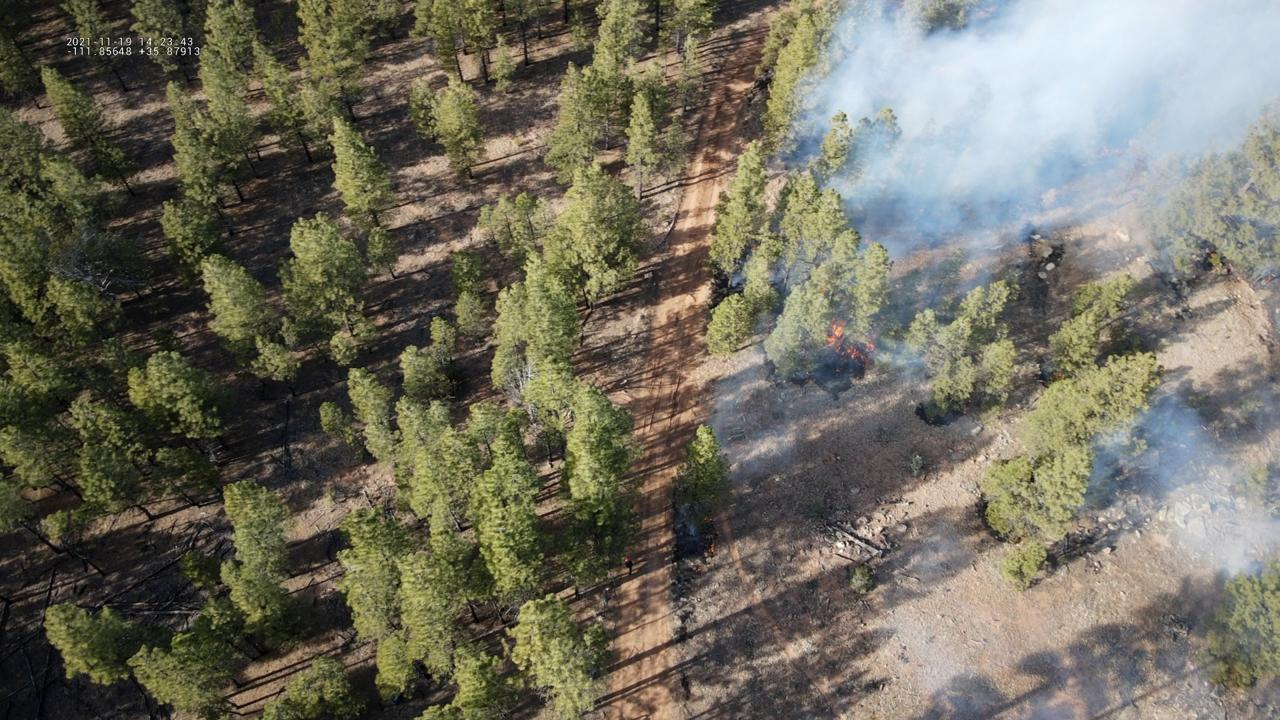fire: (820, 315, 875, 372), (708, 543, 715, 556)
smoke: (709, 2, 1280, 483), (1079, 379, 1280, 583), (674, 505, 696, 537)
